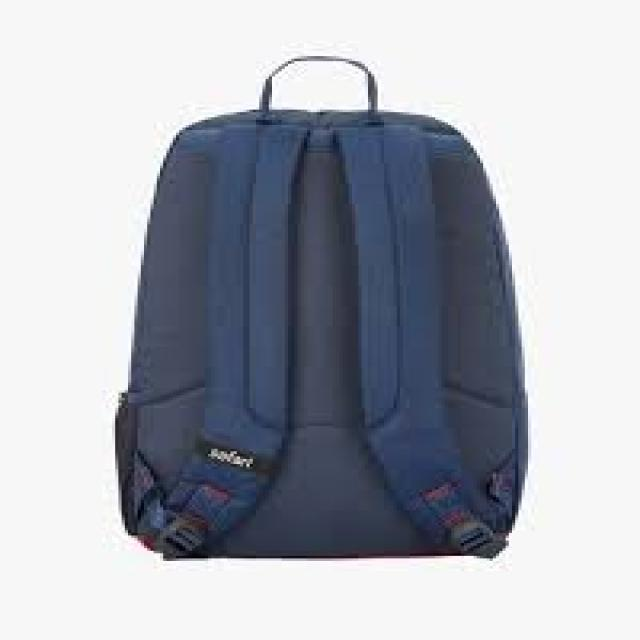backpack: (113, 55, 529, 562)
